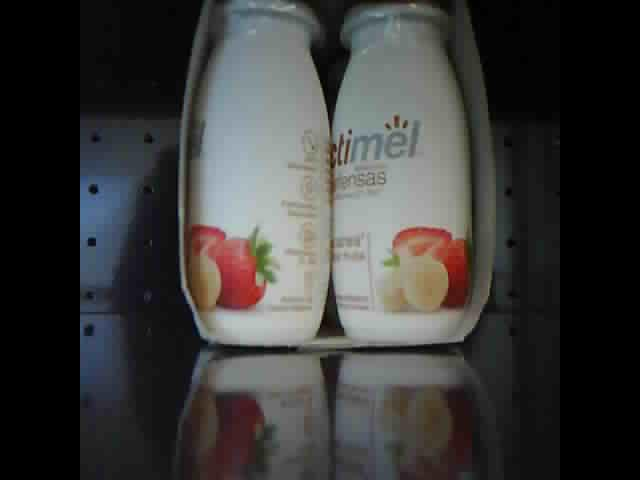actimel: (179, 1, 497, 346)
